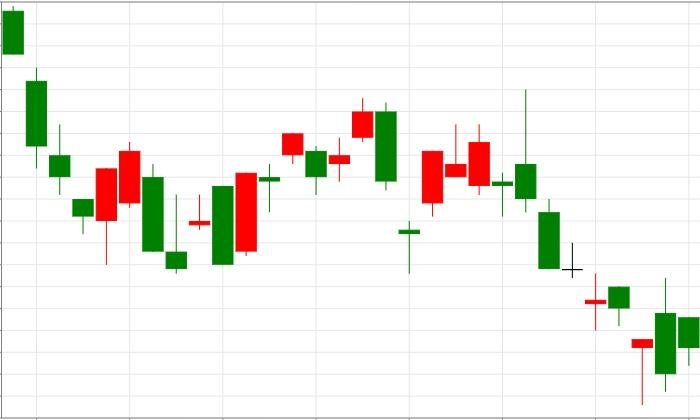bullish_engulfing_rise: (2, 6, 116, 265)
